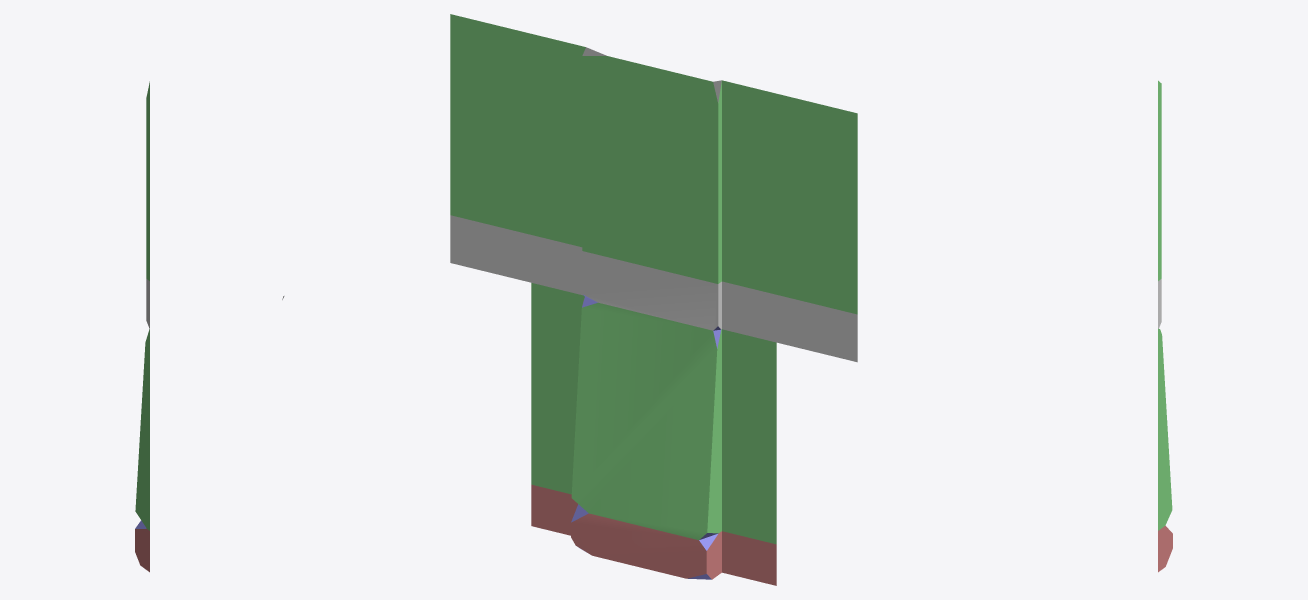
The model's file is SSQ_BRoom03_Gatedoor.gltf.
The picture shows the model from 3 angles, left to right: view 1: azimuth 30°, elevation 25°; view 2: azimuth 150°, elevation 25°; view 3: azimuth 330°, elevation 25°; orthographic projection.
Visible parts, largest first — view 1: SSQ_BRoom03_Gatedoor; view 2: SSQ_BRoom03_Gatedoor; view 3: SSQ_BRoom03_Gatedoor.
Part boxes in pixels (x1,y1,x2,y2): SSQ_BRoom03_Gatedoor: (135,81,284,572); SSQ_BRoom03_Gatedoor: (450,14,857,585); SSQ_BRoom03_Gatedoor: (1158,80,1172,572).
Bounding box in the file's own units: 2.85 × 3.29 × 0.1835.
